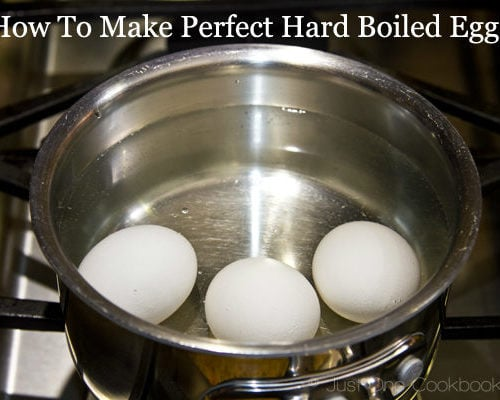egg: (66, 211, 197, 342), (196, 235, 327, 366), (301, 203, 432, 334)
